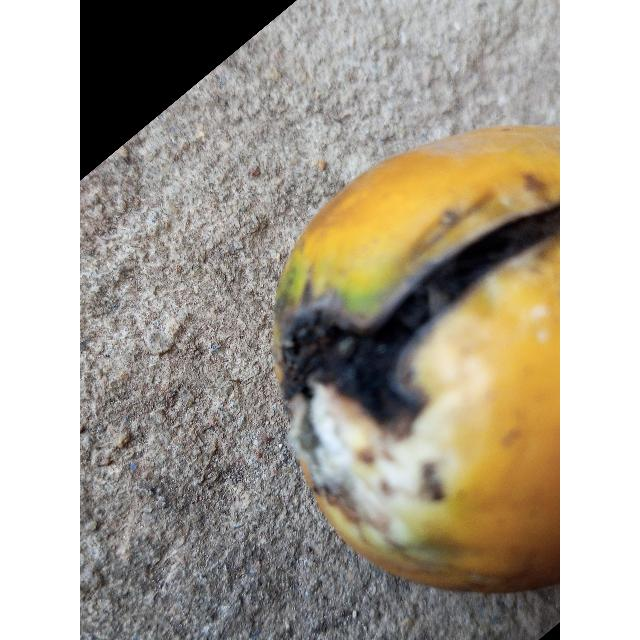damaged: (273, 125, 560, 597)
